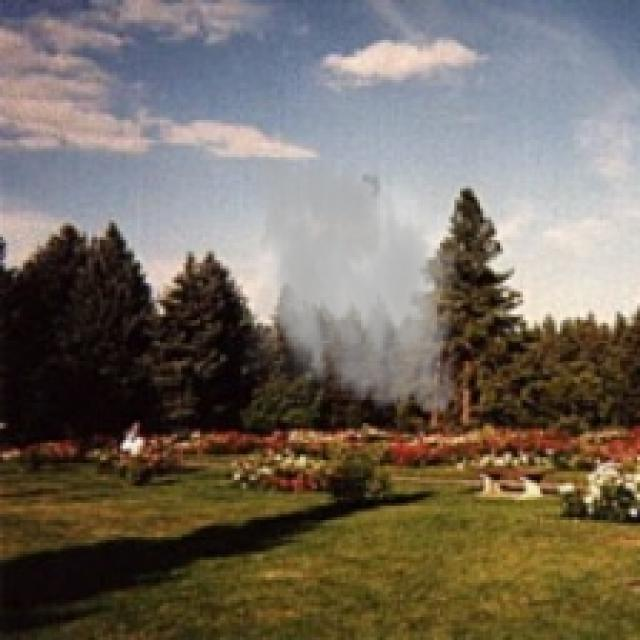Smoke: (232, 143, 472, 426)
